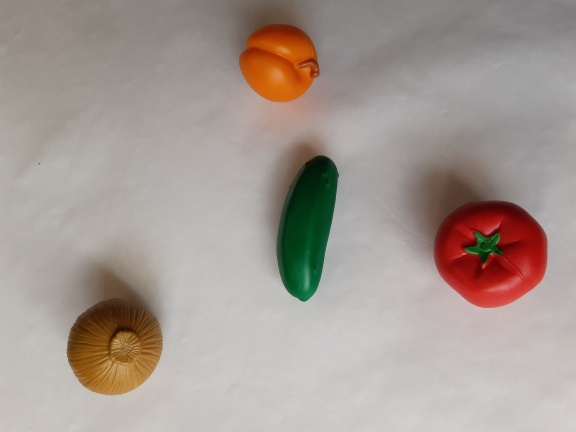apricot: (231, 13, 330, 109)
cucumber: (261, 134, 350, 307)
onion: (63, 292, 167, 402)
tomato: (430, 192, 553, 317)
